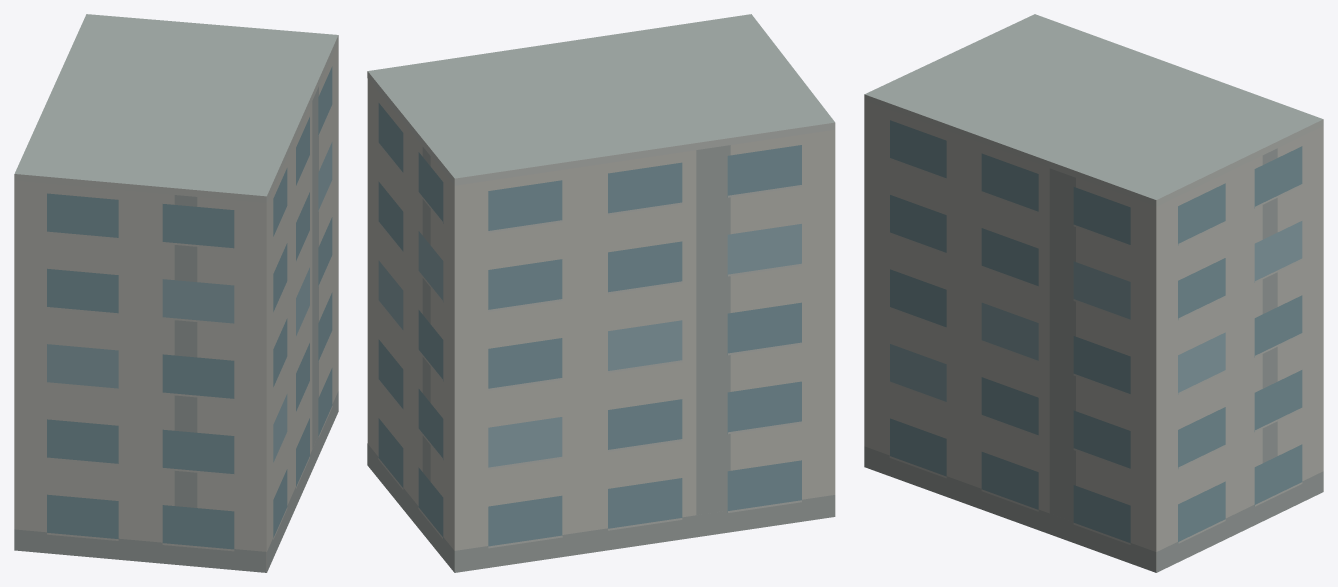
File: survey-upis-32912085.glb
The picture shows the model from 3 angles, left to right: view 1: azimuth 30°, elevation 25°; view 2: azimuth 150°, elevation 25°; view 3: azimuth 270°, elevation 25°; orthographic projection. The views are drawn at different scales.
Visible parts, largest first — view 1: survey-upis-32912085.tmp; view 2: survey-upis-32912085.tmp; view 3: survey-upis-32912085.tmp.
Boxes of the visible parts, x1=… form: survey-upis-32912085.tmp: x1=14, y1=14, x2=338, y2=572; survey-upis-32912085.tmp: x1=367, y1=14, x2=835, y2=572; survey-upis-32912085.tmp: x1=864, y1=14, x2=1323, y2=572.
Size of the model in its own units: 14.47 by 13.5 by 15.08.
